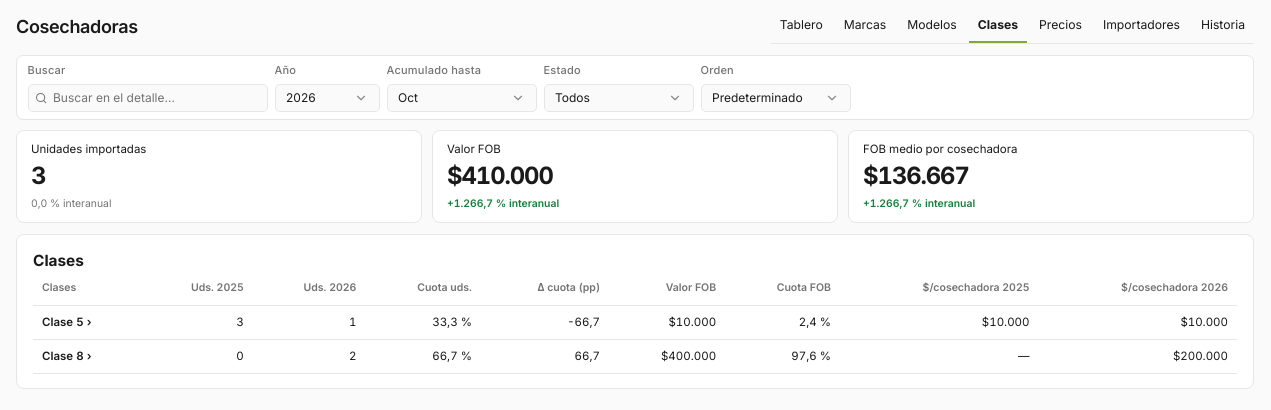
Test case: Mercado de cosechadoras › abre las clases y conserva la clase al desglosar por marca
Expected: the heading "Cosechadoras" is shown, [16, 16, 138, 37]
Expected: the heading "Clases" is shown, [33, 251, 84, 270]
What coordinates should you click on to do the following:
click the link "Clase 8 ›"
I would click on:
 (63, 356)
Its box is [42, 349, 92, 363].
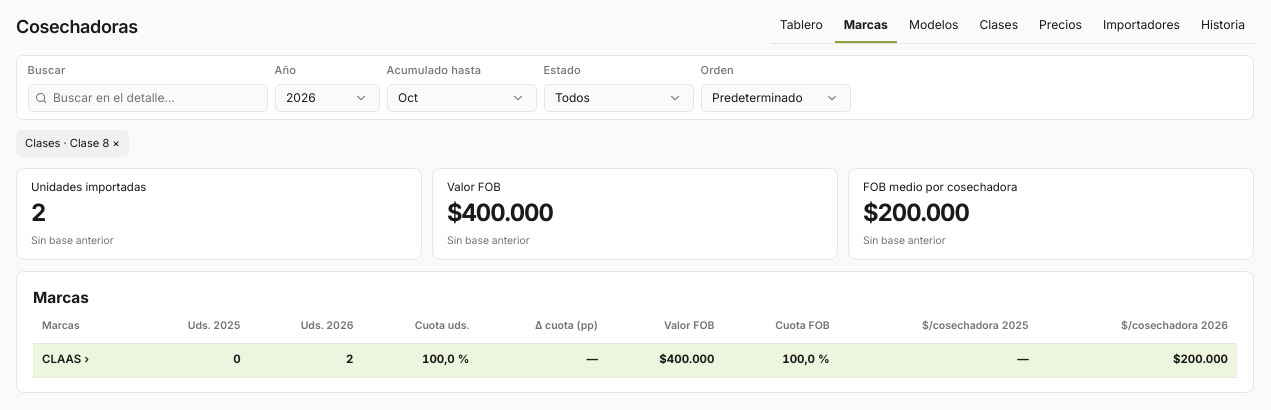
Now the heading "Marcas" is shown, box [33, 288, 89, 307]
Now the link "CLAAS ›" is shown, box [42, 352, 89, 366]
Now the link "Clases · Clase 8 ×" is shown, box [16, 130, 129, 157]
